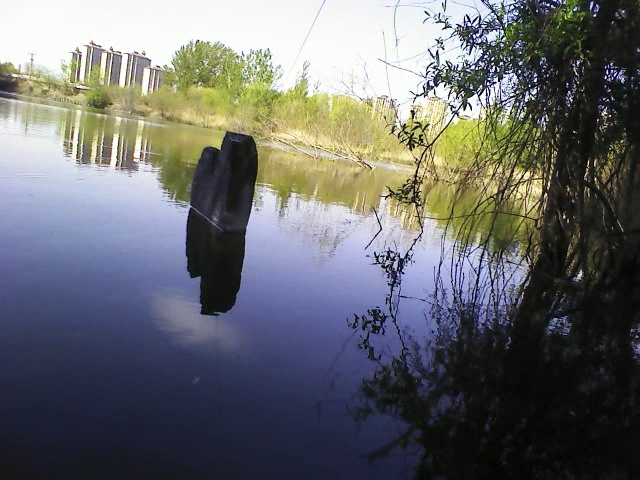rock: (186, 127, 260, 233)
